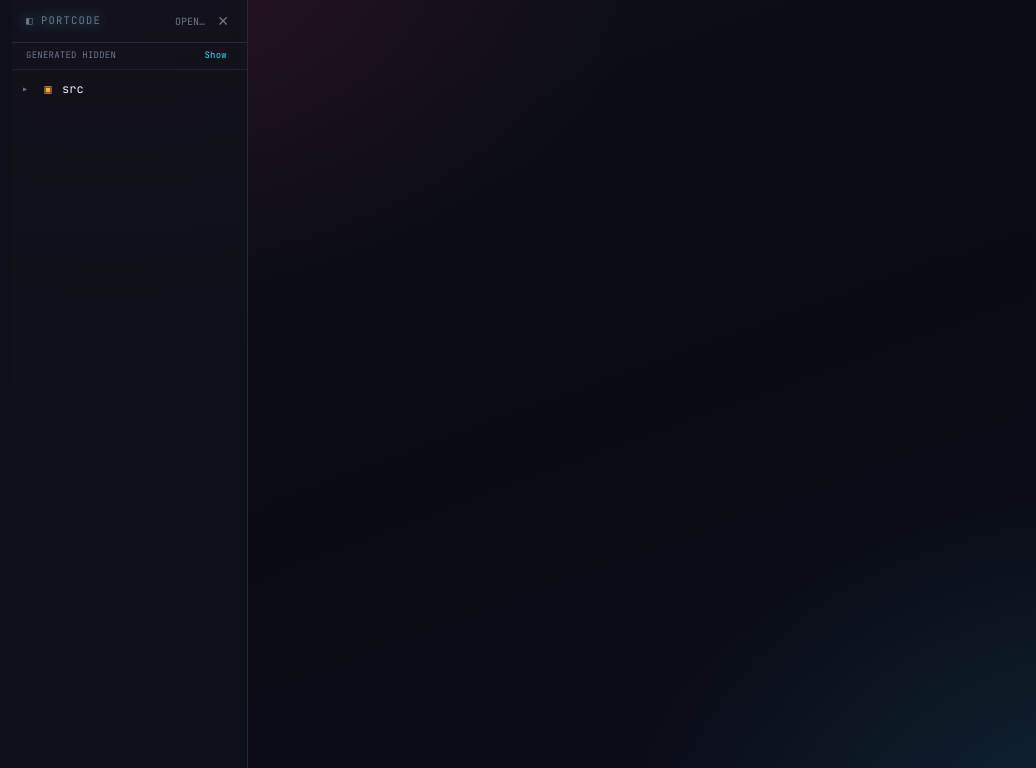
Test: FileExplorer right-click context menu › offers Collapse on an open directory
Click the list item with aria-label "src folder".
click(130, 88)  # box [12,76,247,102]
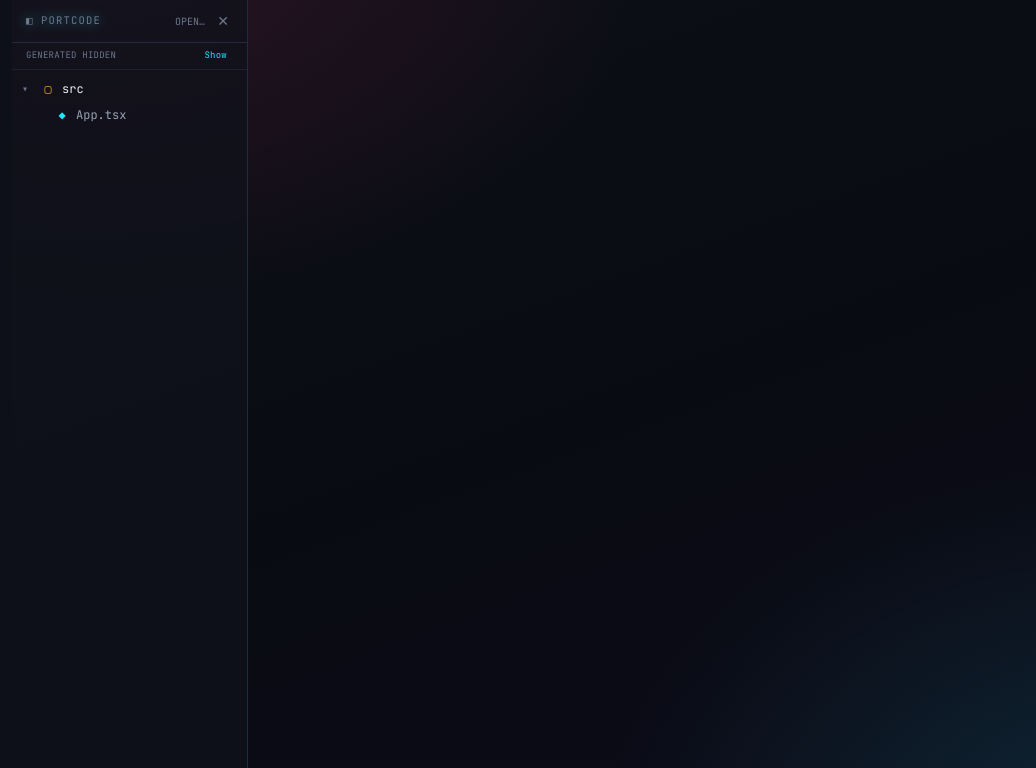
Expected: the list item with aria-label "src folder" is expanded
Right-click the list item with aria-label "src folder".
right_click(130, 88)  # box [12,76,247,102]
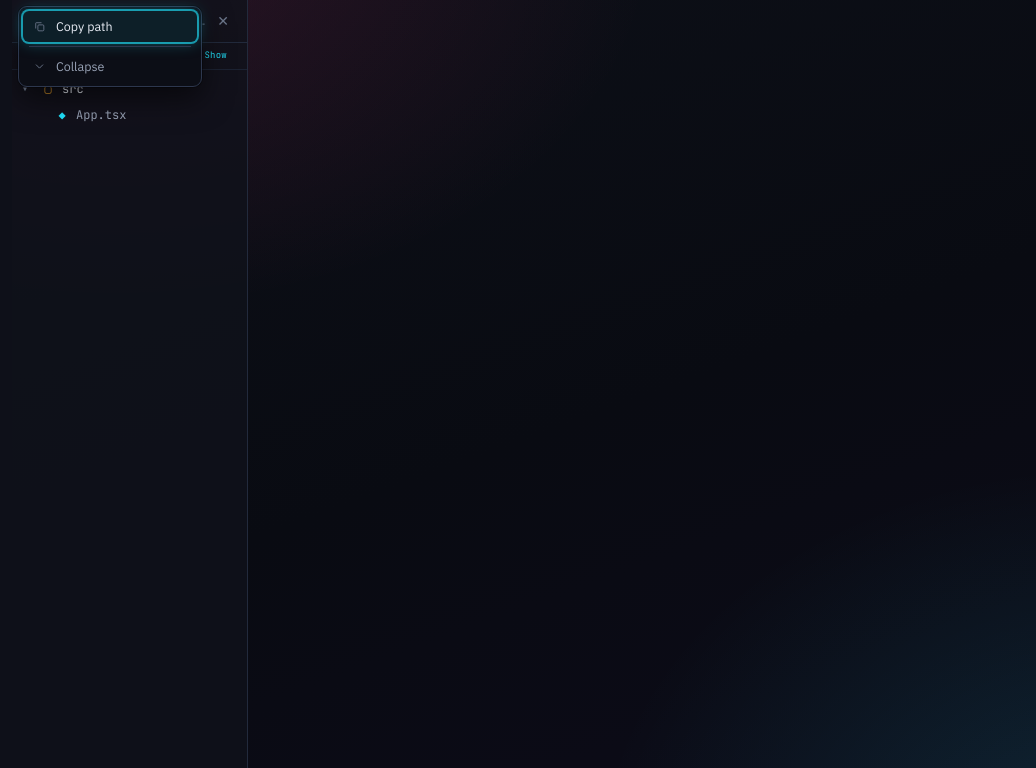
Expected: the menu item "Collapse" is shown, [23,51,197,82]
